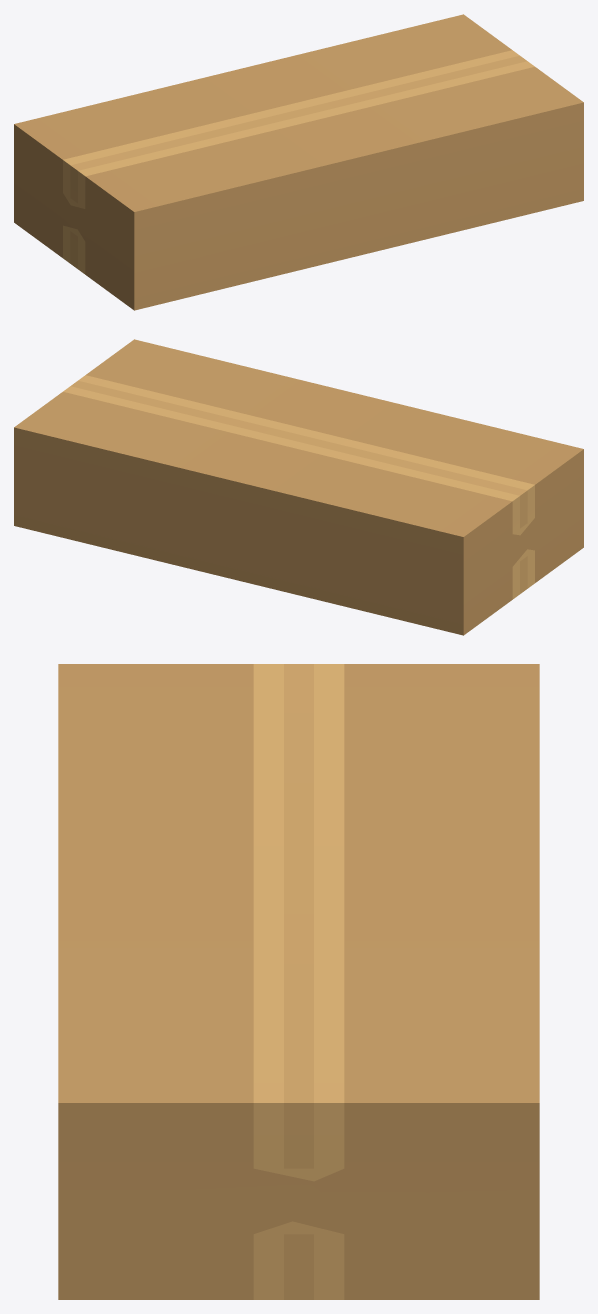
Rendered from Light Packing Box #2.fbx.
3 renders of one model, top to bottom at view 1: azimuth 30°, elevation 25°; view 2: azimuth 150°, elevation 25°; view 3: azimuth 270°, elevation 25°, orthographic. The views are drawn at different scales.
Parts seen in each view (by area): view 1: Small Light Packing Box #2; view 2: Small Light Packing Box #2; view 3: Small Light Packing Box #2.
Boxes of the visible parts, x1,y1,x2,y2 form: Small Light Packing Box #2: (14, 14, 583, 310); Small Light Packing Box #2: (14, 339, 583, 635); Small Light Packing Box #2: (58, 664, 539, 1299).
Size of the model in its own units: 72.34 by 160 by 346.
Materials: 1 (1 with a texture image).
